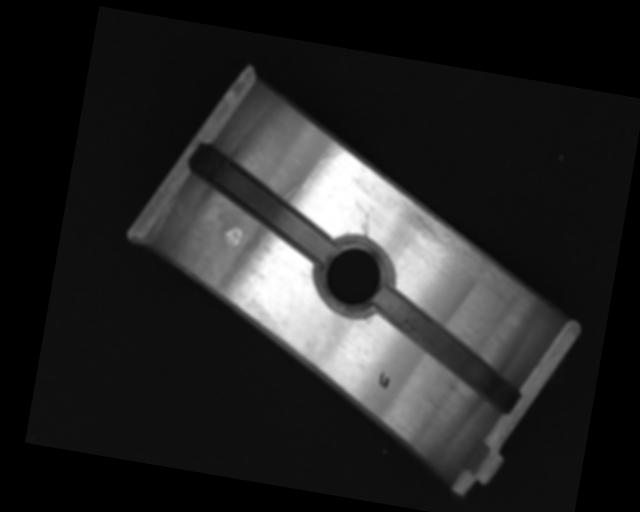blot: (376, 369, 391, 390)
bruise: (222, 225, 243, 248)
gap: (361, 287, 533, 412), (178, 145, 343, 259)
hole: (310, 235, 401, 322)
nick: (302, 138, 346, 196), (360, 211, 372, 238)
scratch: (392, 197, 546, 296)
